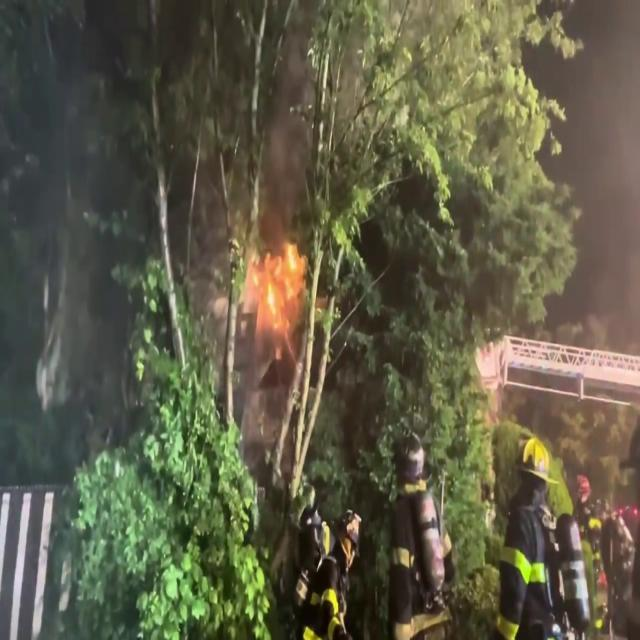Fire: (242, 226, 308, 330)
Smoke: (0, 0, 149, 439)
